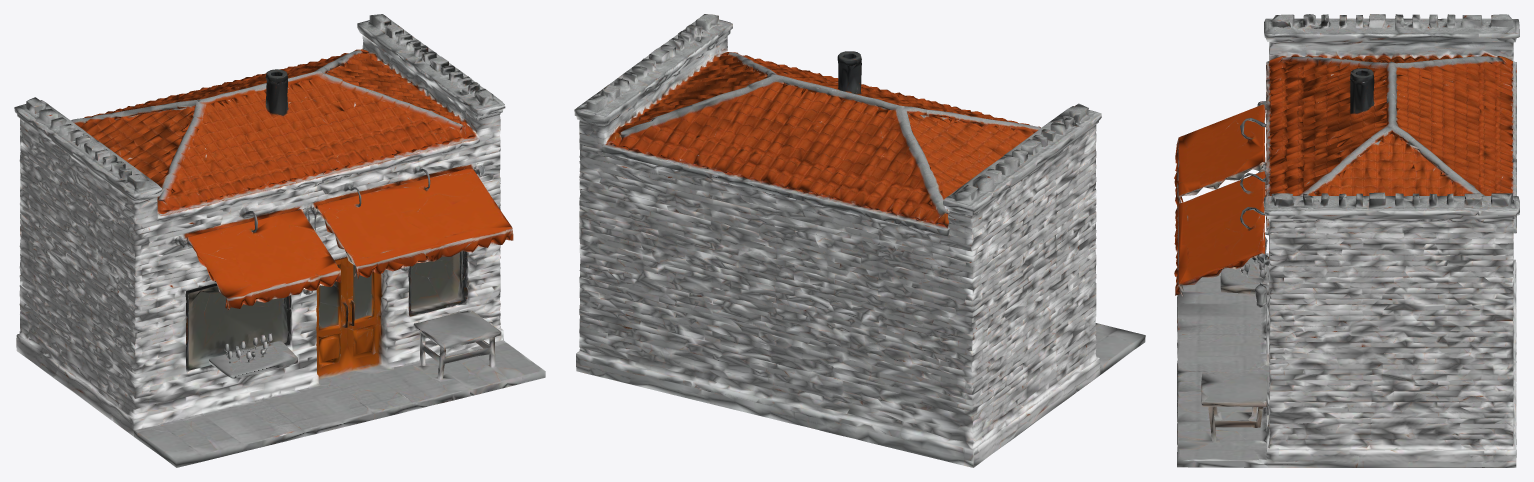
File: restaurant-storefront.glb
3 views of the same model, side by side, from view 1: azimuth 30°, elevation 25°; view 2: azimuth 150°, elevation 25°; view 3: azimuth 270°, elevation 25° (orthographic). The views are drawn at different scales.
Bounding box in the file's own units: 1.9 × 1.39 × 1.45.
Materials: 1 (1 with a texture image).
